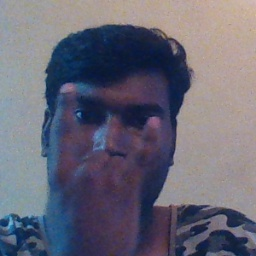V: (38, 80, 165, 256)
